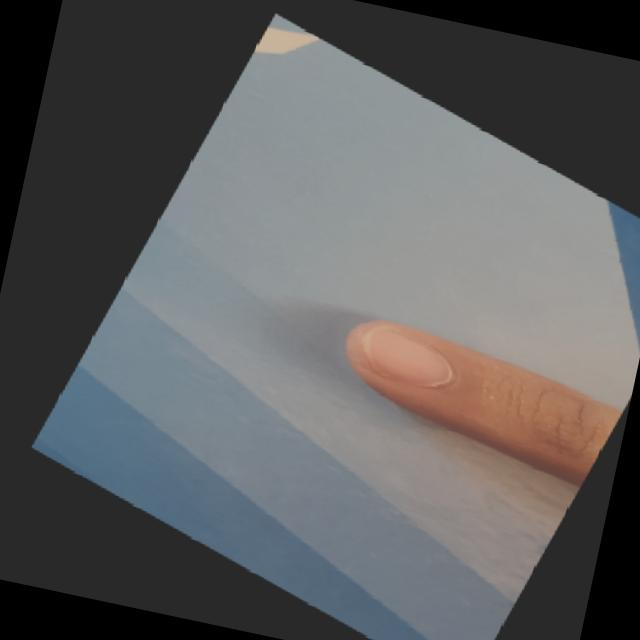Nail: (360, 324, 452, 386)
